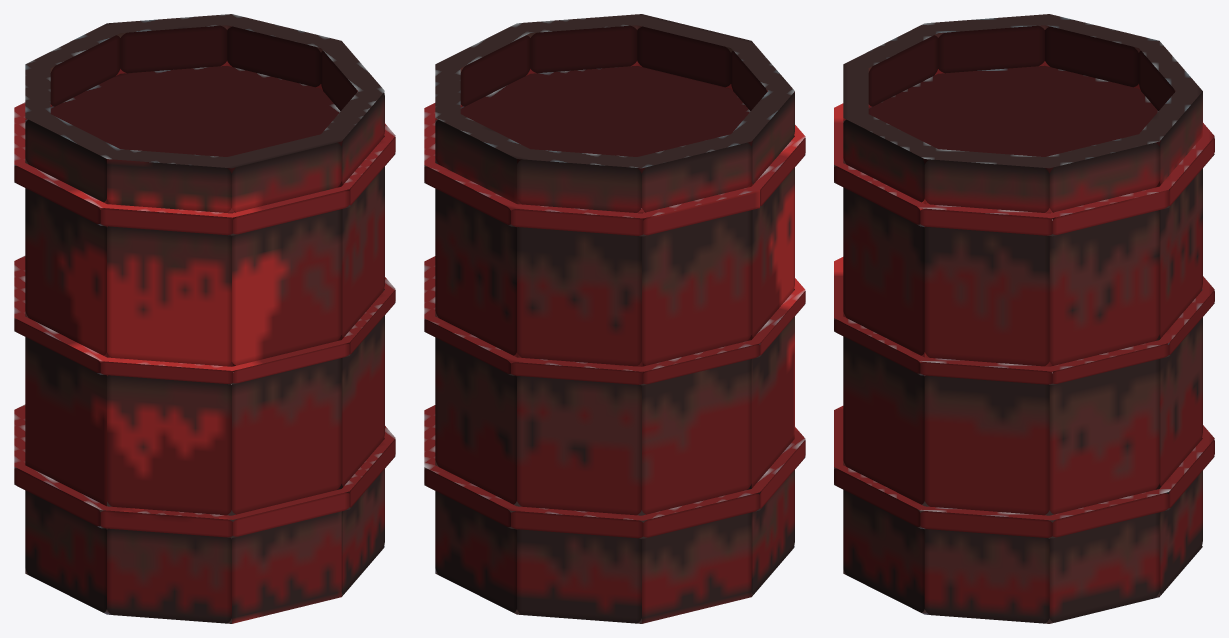
Rendered from barrel.fbx.
3 renders of one model, left to right at view 1: azimuth 30°, elevation 25°; view 2: azimuth 150°, elevation 25°; view 3: azimuth 270°, elevation 25°, orthographic.
Parts seen in each view (by area): view 1: cylinder; view 2: cylinder; view 3: cylinder.
Part boxes in pixels (x1,y1,x2,y2): cylinder: (14,14,395,623); cylinder: (424,14,805,623); cylinder: (834,14,1214,623).
Bounding box in the file's own units: 48.67 × 63.12 × 47.8.
1 material, 1 textured.
